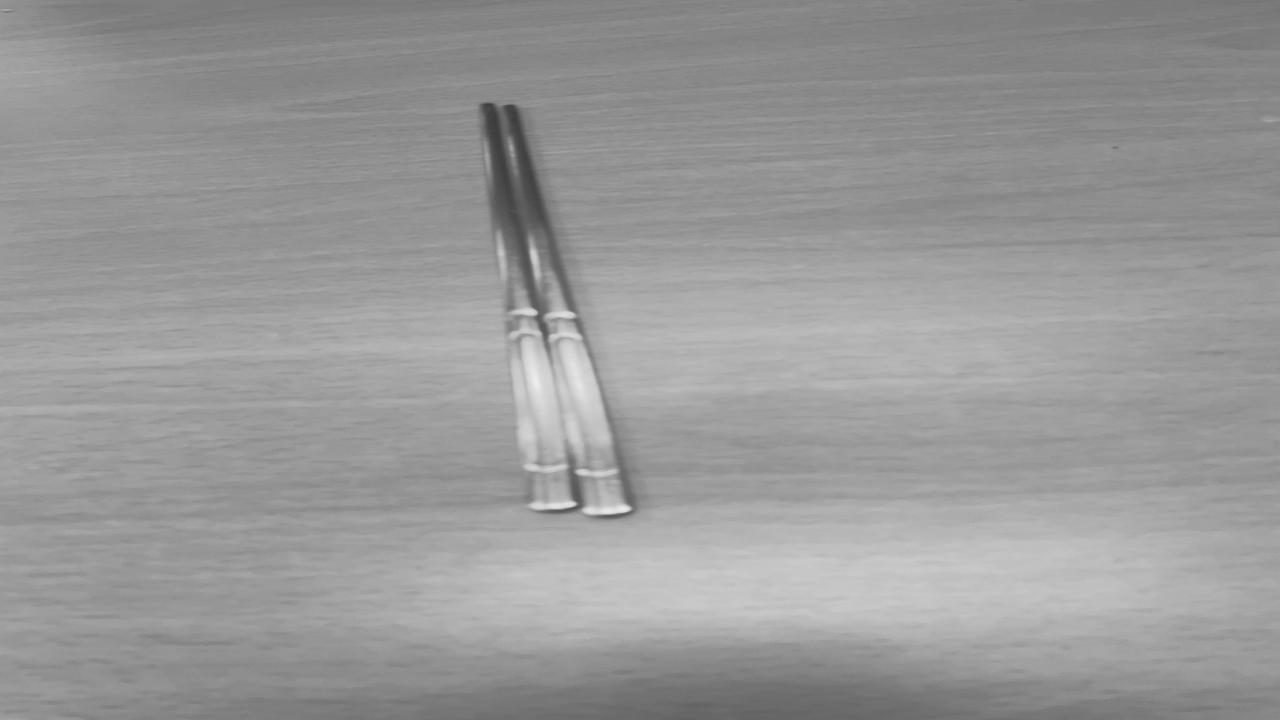chopstick: (483, 102, 622, 512)
